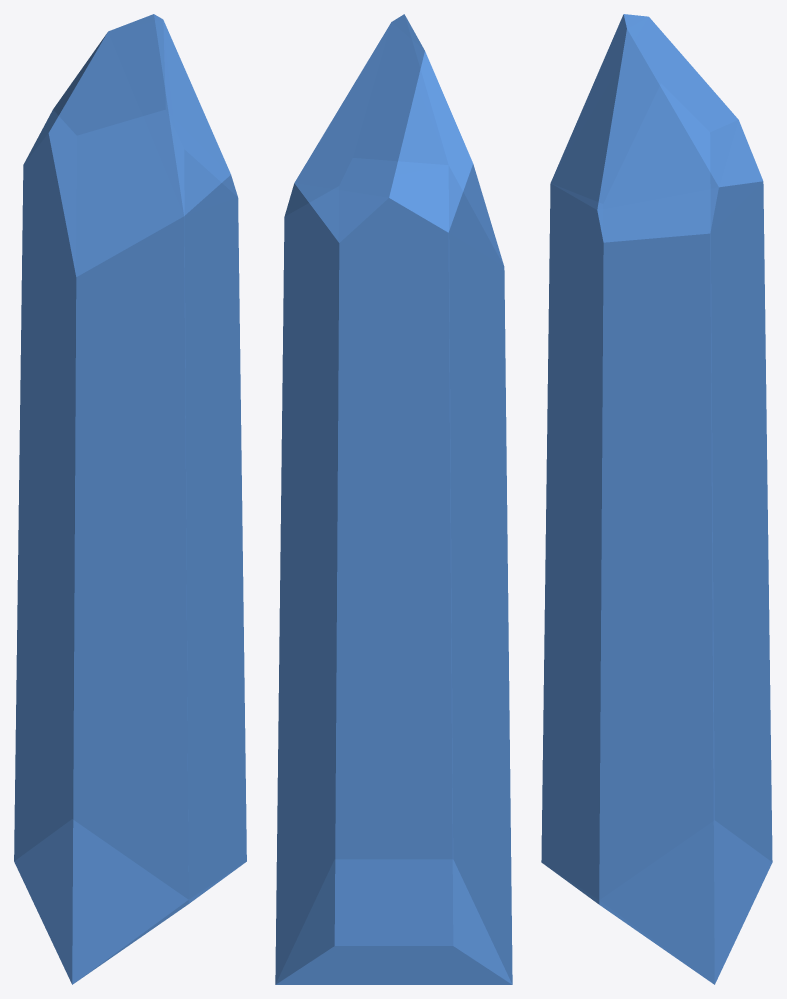
The model's file is Crystal_m_05.fbx.
3 renders of one model, left to right at view 1: azimuth 30°, elevation 25°; view 2: azimuth 150°, elevation 25°; view 3: azimuth 270°, elevation 25°, orthographic. The views are drawn at different scales.
Parts seen in each view (by area): view 1: Crystal_m_05; view 2: Crystal_m_05; view 3: Crystal_m_05.
Boxes of the visible parts, bbox=[...] form: Crystal_m_05: bbox=[14, 14, 246, 984]; Crystal_m_05: bbox=[275, 14, 512, 984]; Crystal_m_05: bbox=[541, 14, 772, 984].
Size of the model in its own units: 0.3641 by 1.87 by 0.4204.
